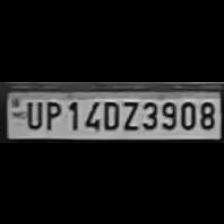0: (177, 97, 197, 128)
1: (62, 97, 80, 129)
3: (138, 97, 158, 129)
4: (81, 97, 101, 129)
8: (196, 97, 216, 128)
9: (158, 97, 176, 129)
D: (100, 97, 118, 129)
P: (42, 97, 62, 129)
U: (20, 97, 42, 128)
Z: (118, 97, 138, 129)
